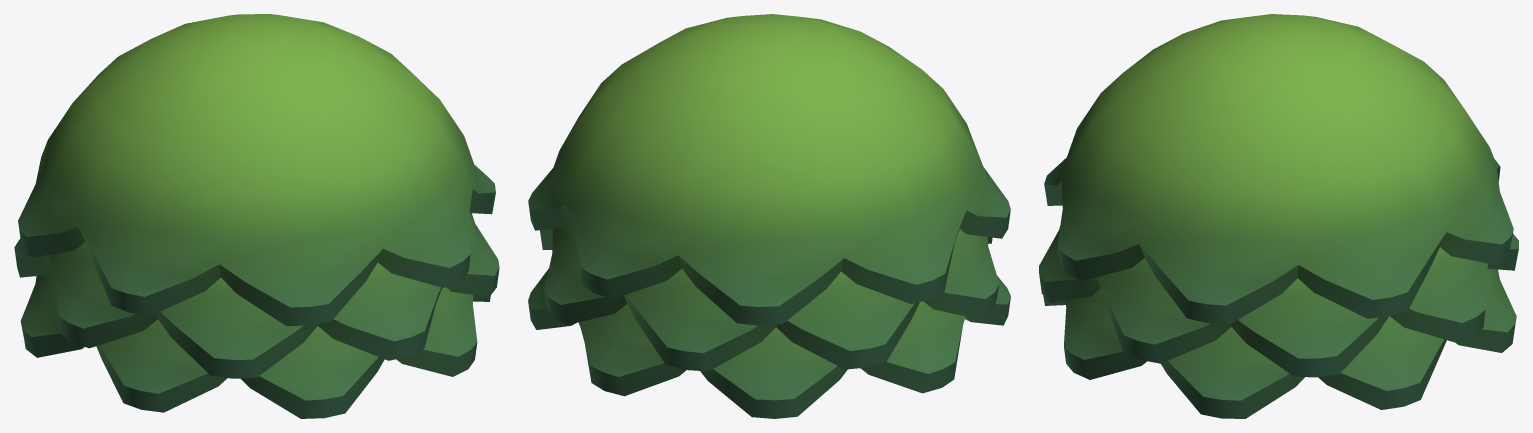
File: Bush-1.fbx
3 views of the same model, side by side, from view 1: azimuth 30°, elevation 25°; view 2: azimuth 150°, elevation 25°; view 3: azimuth 270°, elevation 25° (orthographic).
Visible parts, largest first — view 1: Bush-1; view 2: Bush-1; view 3: Bush-1.
Boxes of the visible parts, x1=… form: Bush-1: x1=14, y1=14, x2=499, y2=418; Bush-1: x1=528, y1=14, x2=1010, y2=418; Bush-1: x1=1039, y1=14, x2=1518, y2=418.
Size of the model in its own units: 380 by 248 by 380.
